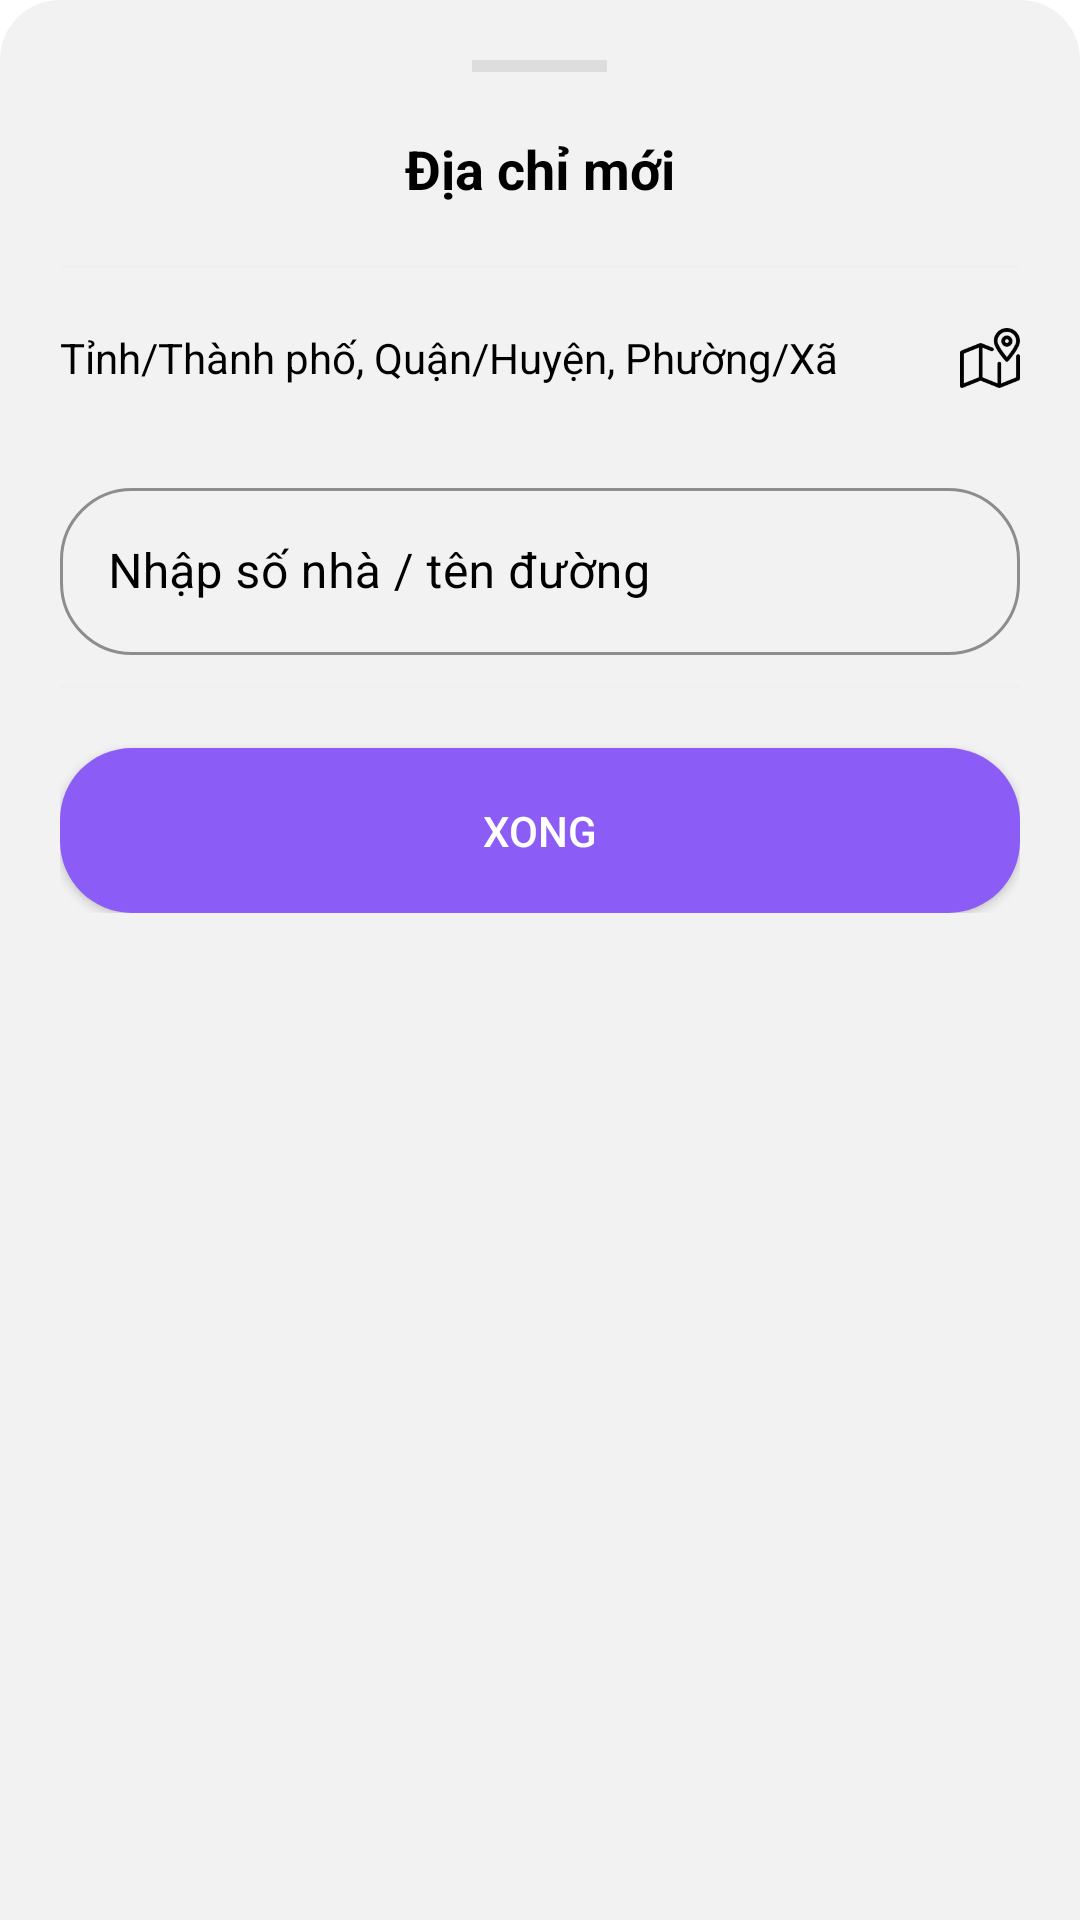

Icons on this 1080 x 1920 Android screen, each with the point to tap as (x=x, y=y):
dia chi: (x=990, y=358)
